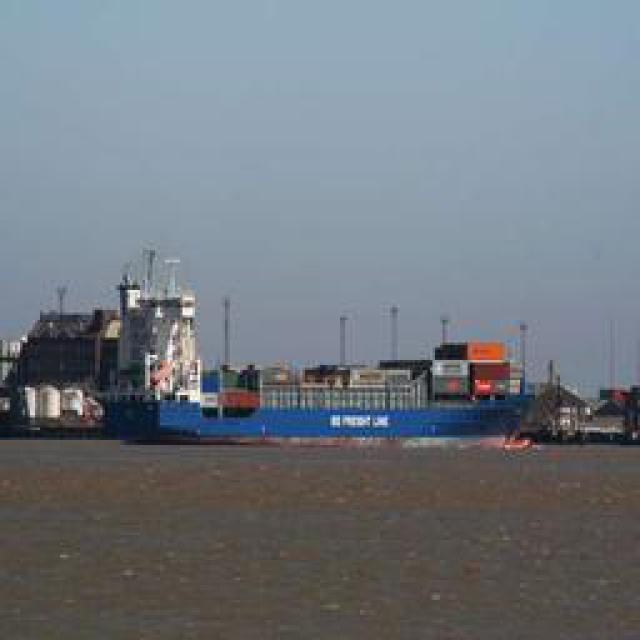Ship: (99, 320, 539, 450)
